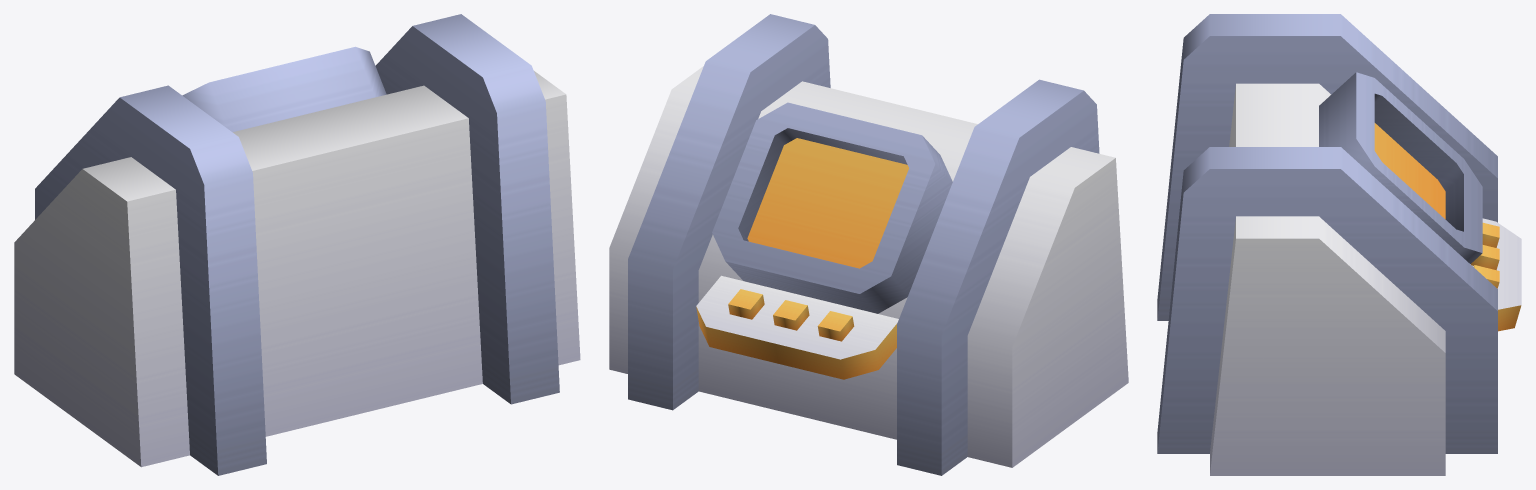
File: scifi-computer-system.fbx
The picture shows the model from 3 angles, left to right: view 1: azimuth 30°, elevation 25°; view 2: azimuth 150°, elevation 25°; view 3: azimuth 270°, elevation 25°; orthographic projection. The views are drawn at different scales.
Visible parts, largest first — view 1: scifi-computer-system; view 2: scifi-computer-system; view 3: scifi-computer-system.
Part boxes in pixels (x1,y1,x2,y2): scifi-computer-system: (14,14,580,475); scifi-computer-system: (609,14,1128,475); scifi-computer-system: (1157,14,1521,475).
Size of the model in its own units: 0.9 by 0.6949 by 0.6.
